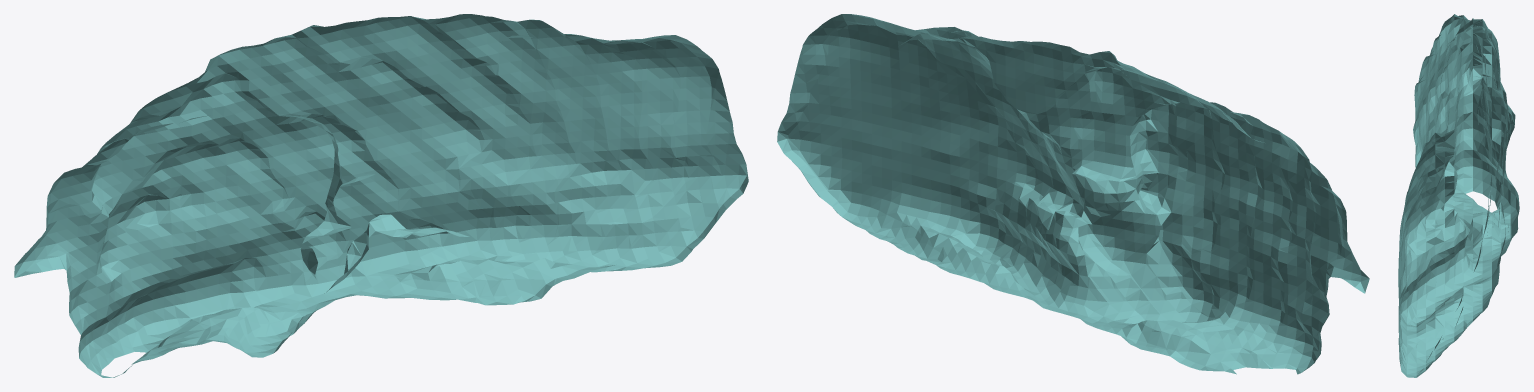
Rendered from 051__LH_Par_C_PtD__full_20fps__surface.glb.
3 views of the same model, side by side, from view 1: azimuth 30°, elevation 25°; view 2: azimuth 150°, elevation 25°; view 3: azimuth 270°, elevation 25° (orthographic). The views are drawn at different scales.
Parts seen in each view (by area): view 1: world; view 2: world; view 3: world.
Boxes of the visible parts, box(x1,y1,x2,y2) form: world: box(14, 14, 748, 377); world: box(777, 14, 1369, 374); world: box(1398, 14, 1519, 377).
Bounding box in the file's own units: 254 × 106 × 51.49.
